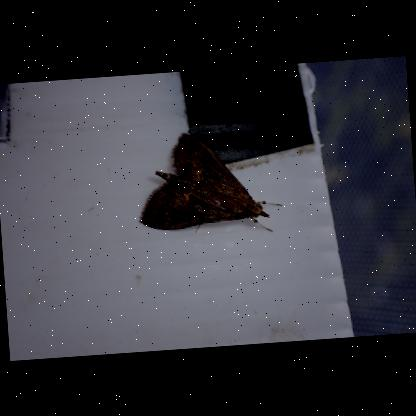Asian Corn Borer Moth: (132, 124, 285, 242)
